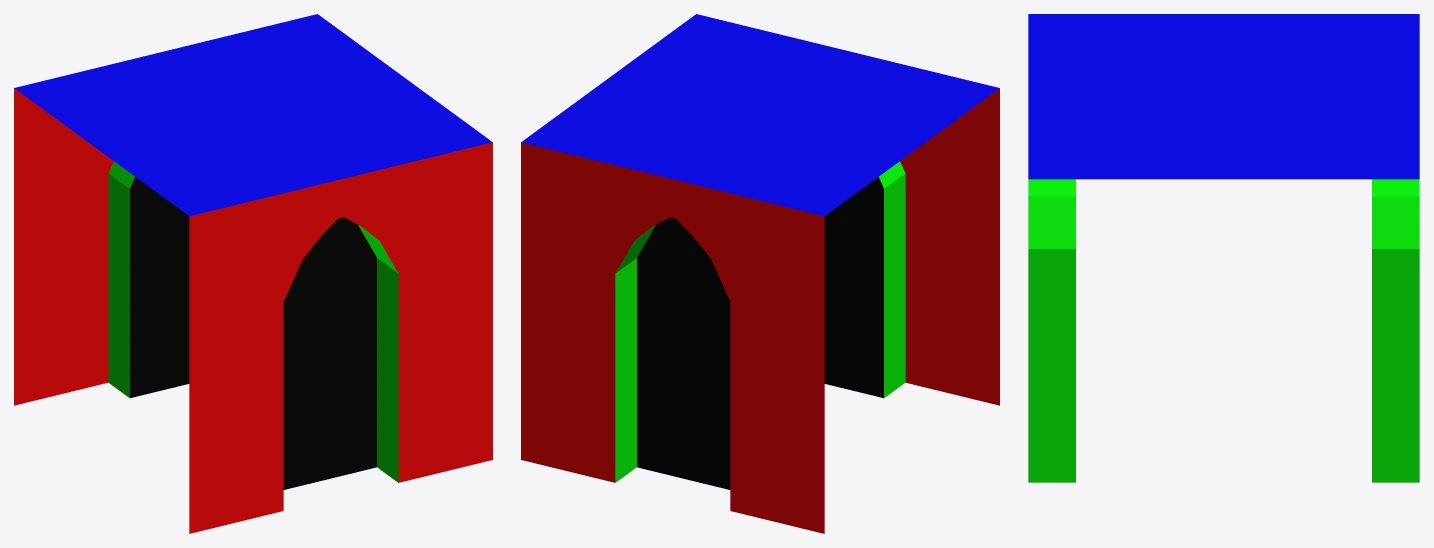
Rendered from BaseBlock_IShape.fbx.
3 renders of one model, left to right at view 1: azimuth 30°, elevation 25°; view 2: azimuth 150°, elevation 25°; view 3: azimuth 270°, elevation 25°, orthographic. The views are drawn at different scales.
Visible parts, largest first — view 1: Cube.026; view 2: Cube.026; view 3: Cube.026.
Boxes of the visible parts, x1=… form: Cube.026: x1=14, y1=14, x2=492, y2=533; Cube.026: x1=521, y1=14, x2=999, y2=533; Cube.026: x1=1028, y1=14, x2=1419, y2=482.
Bounding box in the file's own units: 100 × 100 × 100.
